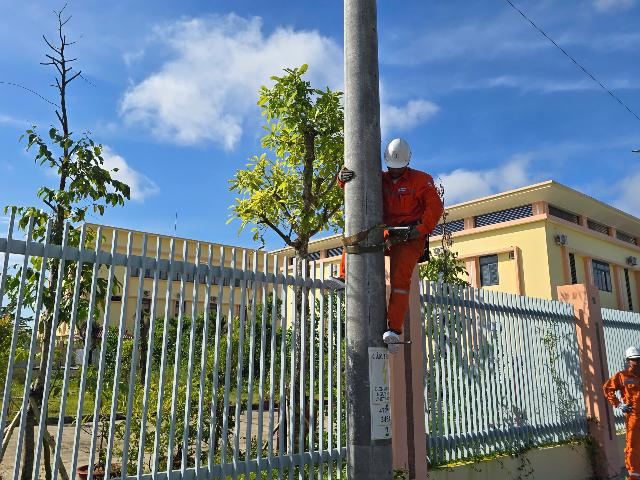gloves: (347, 220, 438, 248), (331, 166, 356, 185), (615, 398, 634, 417), (407, 229, 422, 240)
helmet: (378, 141, 419, 173), (618, 341, 640, 364)
shoes: (382, 324, 412, 361)
